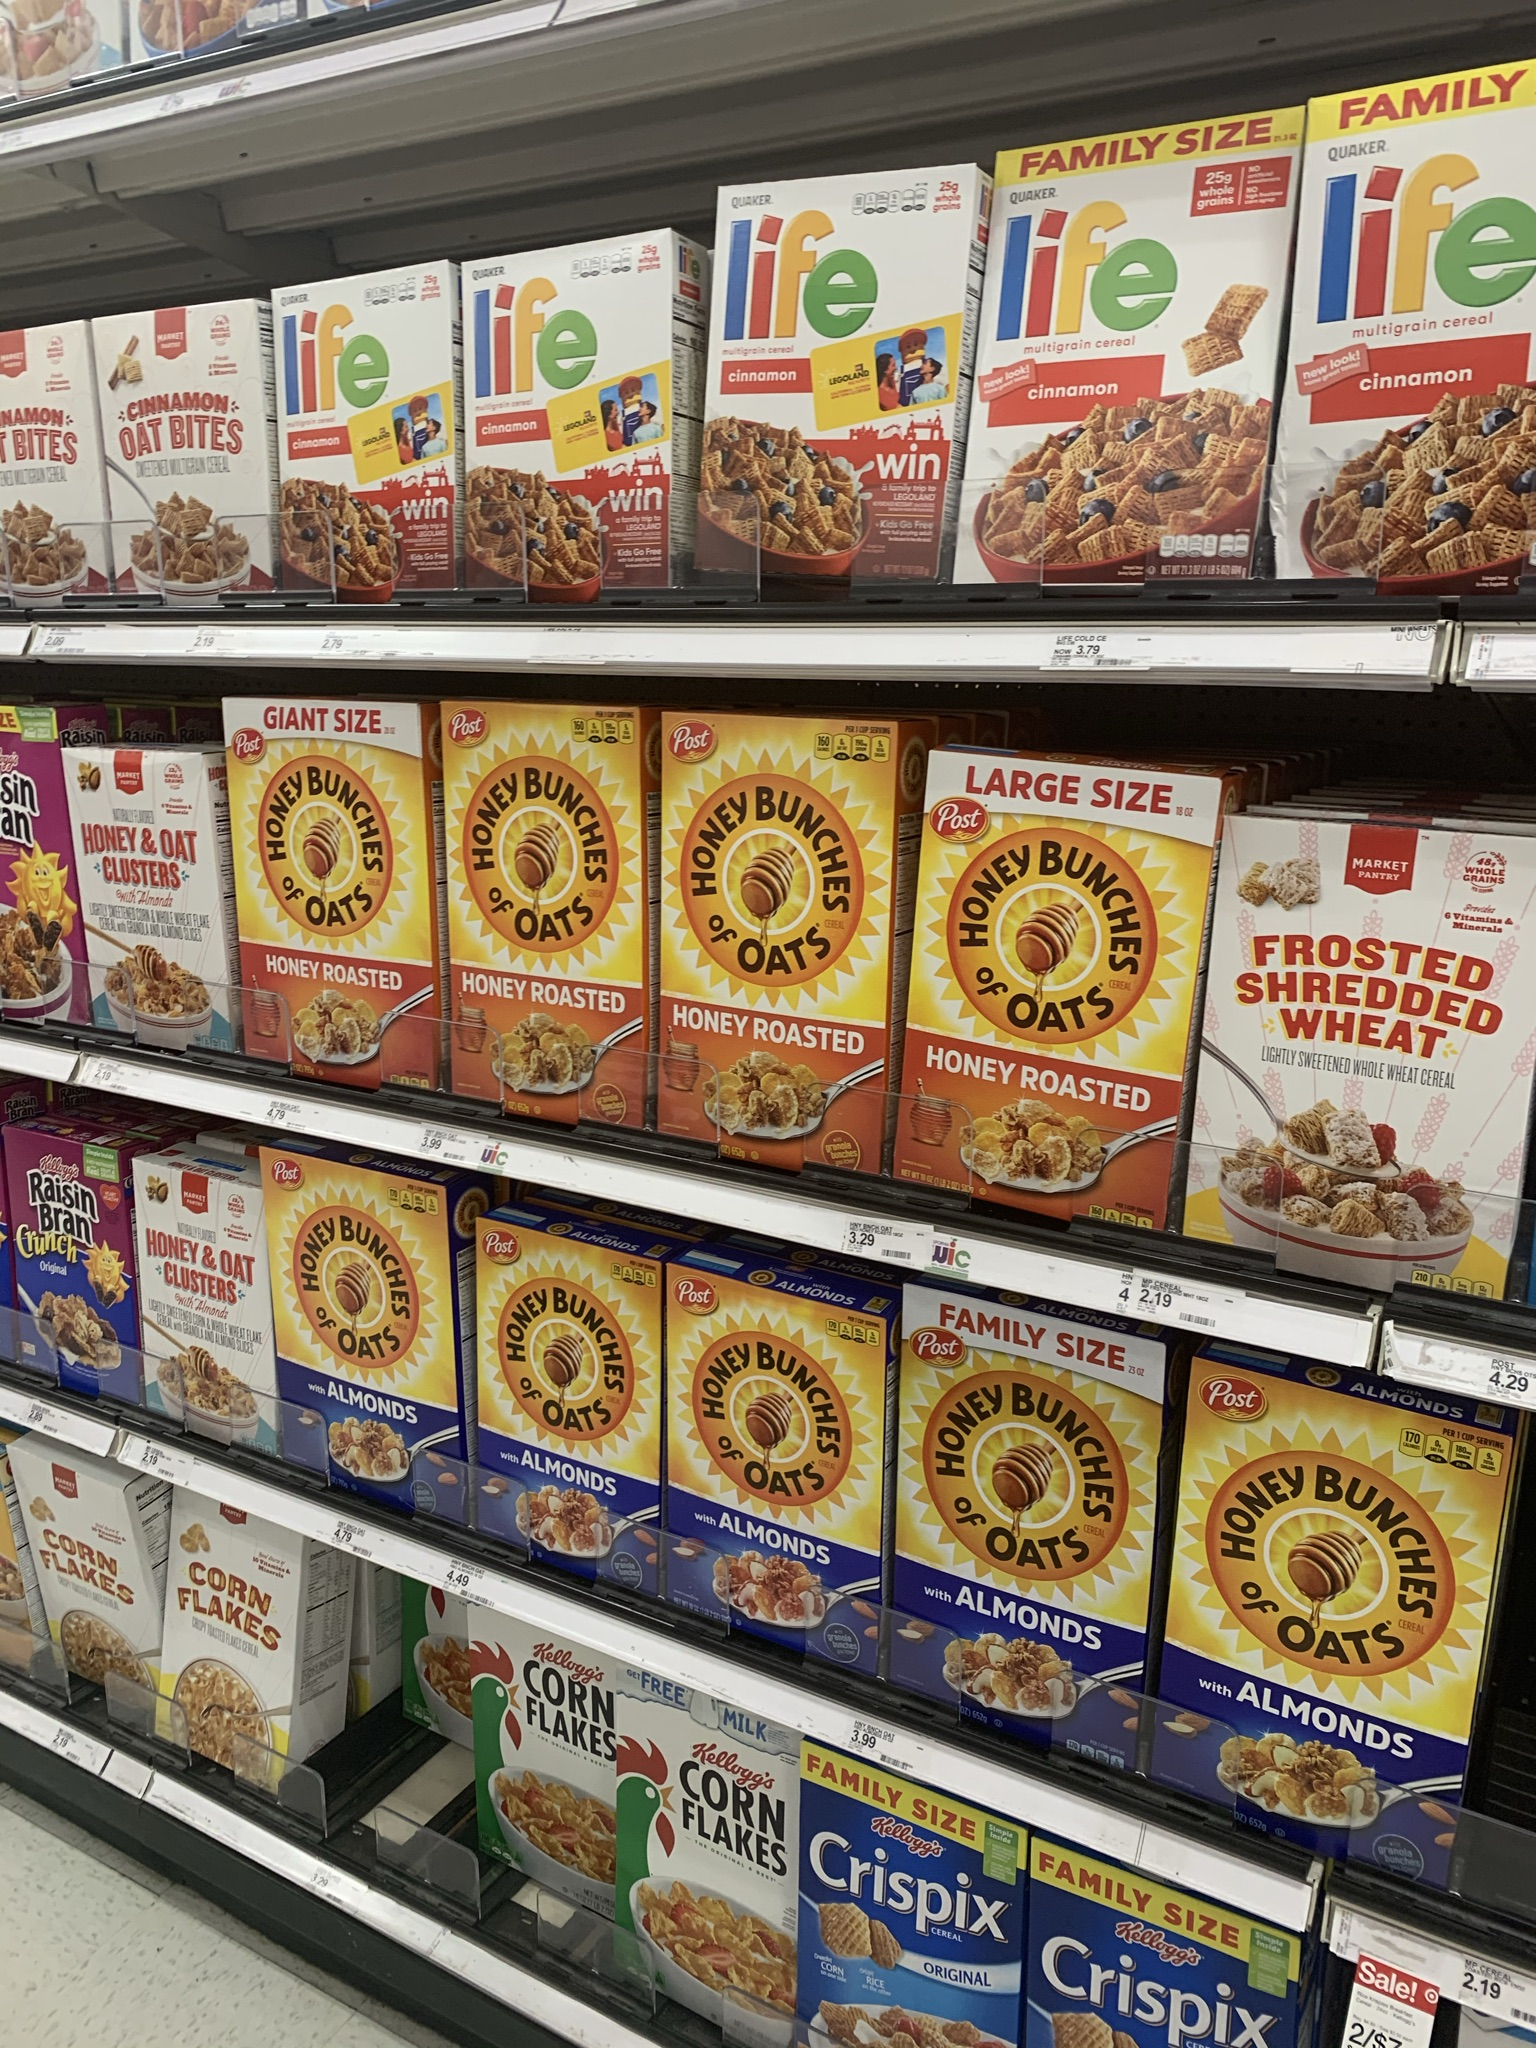cereal: (1186, 1355, 1488, 1888), (1220, 814, 1512, 1319), (925, 739, 1175, 1238), (992, 147, 1262, 590), (897, 1276, 1133, 1772), (1310, 98, 1536, 610), (658, 706, 886, 1192), (658, 1261, 883, 1700), (718, 173, 942, 610), (439, 700, 644, 1135), (229, 698, 436, 1106), (257, 1147, 458, 1530), (458, 261, 679, 590), (471, 1221, 658, 1606), (803, 1750, 1018, 2048), (620, 1680, 791, 2048), (471, 1601, 628, 1974), (276, 289, 457, 605), (60, 747, 236, 1061), (94, 323, 274, 605), (171, 1488, 319, 1832), (3, 1442, 150, 1766), (136, 1164, 282, 1471)
